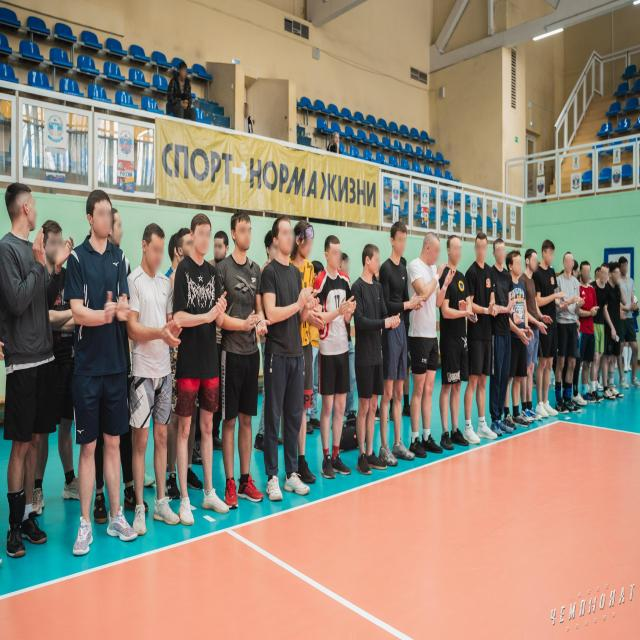Person: (73, 181, 131, 559), (0, 176, 52, 567), (131, 216, 176, 543), (177, 211, 220, 531), (222, 201, 262, 514), (262, 212, 302, 506), (348, 240, 391, 484), (316, 230, 354, 486), (409, 226, 448, 464), (380, 222, 418, 464), (291, 209, 321, 488), (437, 231, 471, 451), (460, 232, 492, 454), (534, 239, 560, 424), (490, 233, 510, 442), (555, 253, 579, 417), (573, 256, 597, 413), (522, 242, 541, 427), (508, 247, 525, 439), (590, 261, 612, 406), (606, 261, 622, 398), (619, 256, 635, 389), (212, 226, 236, 278)
